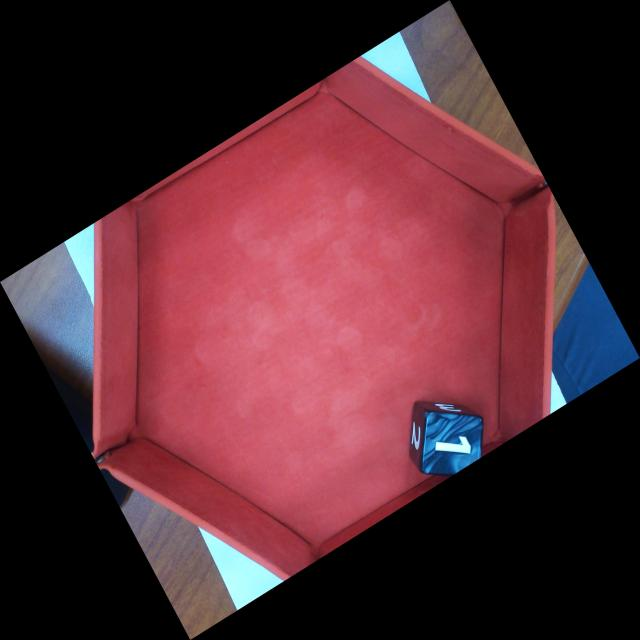dice: (419, 409, 486, 481)
